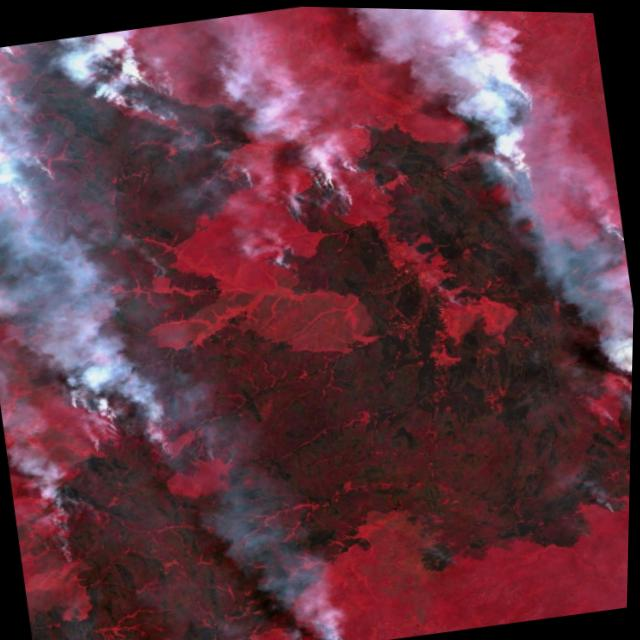fire: (0, 17, 216, 264), (9, 323, 212, 550), (235, 119, 390, 293), (449, 47, 569, 205), (300, 601, 376, 640)
